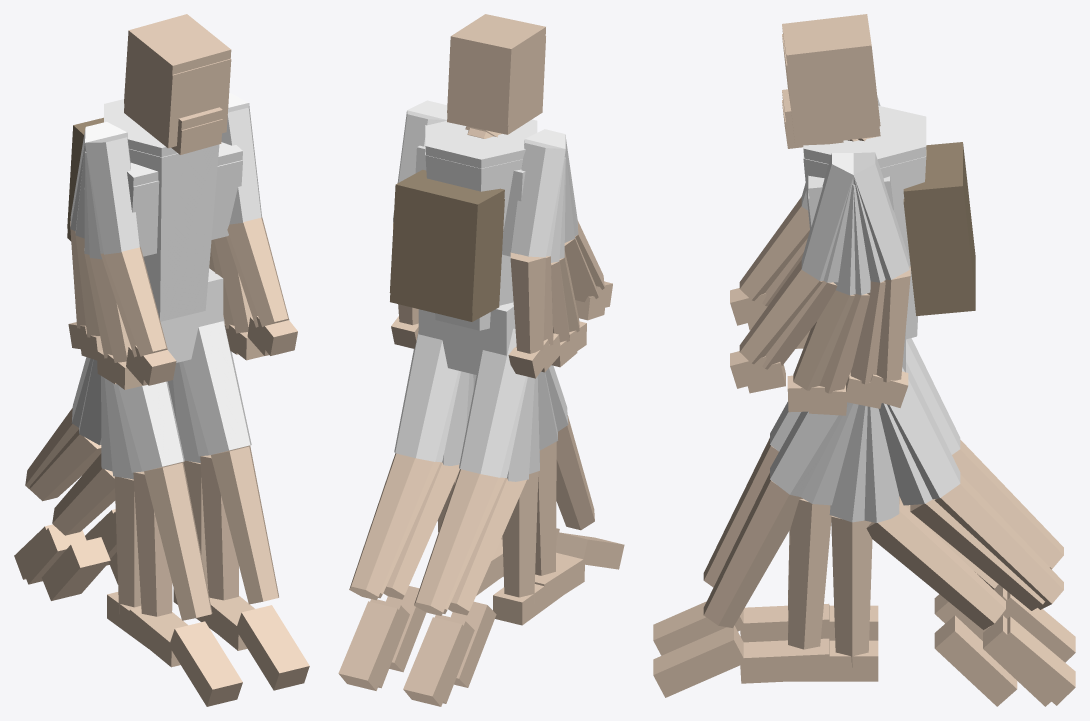
Rendered from walker.glb.
3 views of the same model, side by side, from view 1: azimuth 30°, elevation 25°; view 2: azimuth 150°, elevation 25°; view 3: azimuth 270°, elevation 25° (orthographic). The views are drawn at different scales.
Parts seen in each view (by area): view 1: pose0, pose1, pose3, pose5, pose2, pose4; view 2: pose0, pose3, pose1, pose4, pose2, pose5; view 3: pose0, pose1, pose3, pose4, pose5, pose2.
Part boxes in pixels (x1=…): pose0: x1=14, y1=14, x2=309, y2=690; pose1: x1=41, y1=41, x2=242, y2=632; pose3: x1=68, y1=103, x2=297, y2=706; pose5: x1=20, y1=134, x2=254, y2=650; pose2: x1=75, y1=144, x2=268, y2=667; pose4: x1=84, y1=151, x2=263, y2=648; pose0: x1=389, y1=14, x2=612, y2=706; pose3: x1=338, y1=100, x2=624, y2=690; pose1: x1=390, y1=36, x2=586, y2=687; pose4: x1=383, y1=158, x2=577, y2=672; pose2: x1=370, y1=149, x2=585, y2=688; pose5: x1=428, y1=120, x2=605, y2=703; pose0: x1=653, y1=14, x2=1075, y2=697; pose1: x1=782, y1=34, x2=998, y2=681; pose3: x1=653, y1=96, x2=1075, y2=705; pose4: x1=787, y1=184, x2=1017, y2=706; pose5: x1=740, y1=166, x2=1064, y2=683; pose2: x1=740, y1=165, x2=1065, y2=706.
Size of the model in its own units: 0.54 by 1.92 by 1.13.
